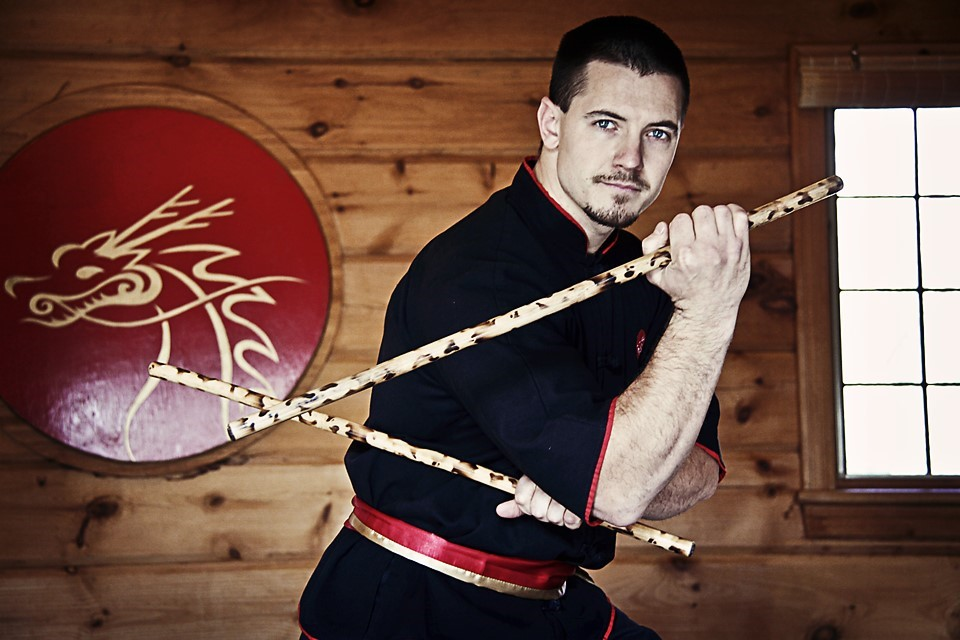baston_e: (249, 177, 836, 439), (162, 359, 684, 558)
baston_v: (218, 418, 249, 446), (136, 354, 166, 382), (676, 534, 699, 560), (829, 167, 848, 196)
